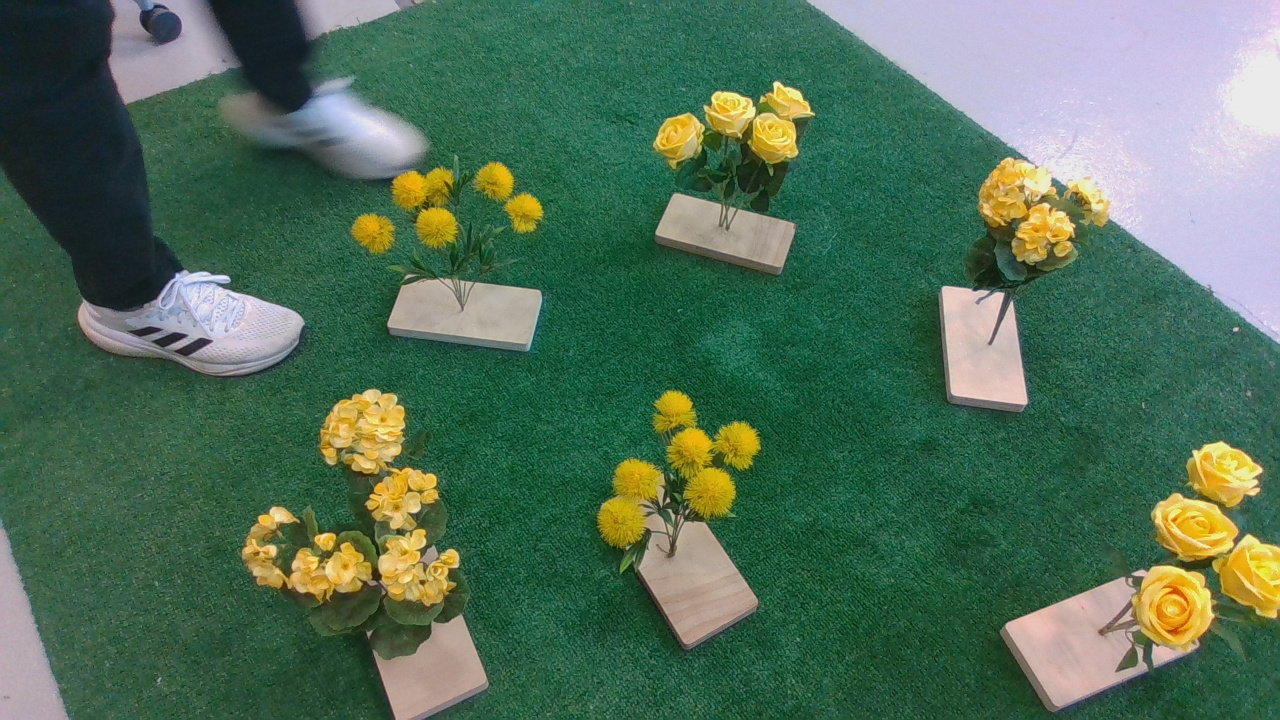dandelion: (596, 391, 783, 584), (352, 165, 564, 293)
geranium: (243, 385, 483, 667), (963, 161, 1121, 320)
rose: (1105, 438, 1280, 691), (655, 87, 841, 218)
